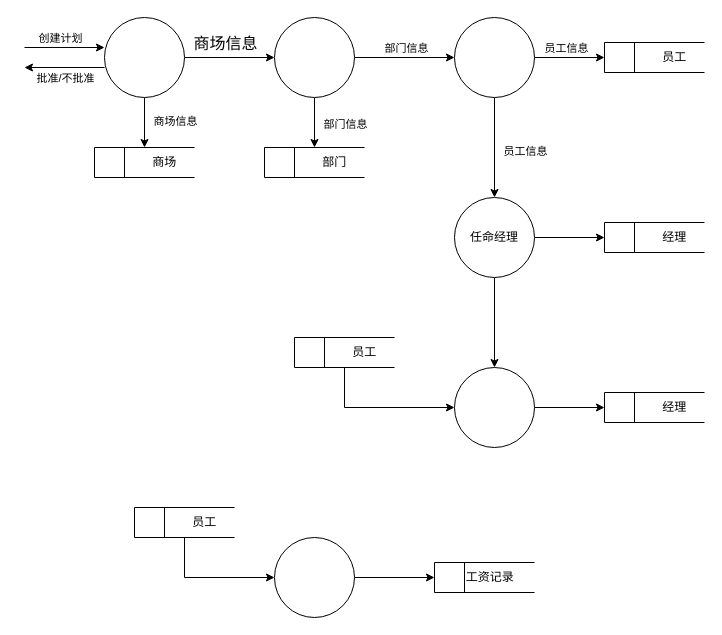
This 722x635 diagram has some shape labels left out. The shapes that lost their labels are listed below. From the top down, each one's centre as x and y in pixels, then its label:
the point at 144,57: 创建商场
the point at 314,57: 创建部门
the point at 494,57: 招聘员工
the point at 494,407: 更换经理
the point at 314,577: 发工资
